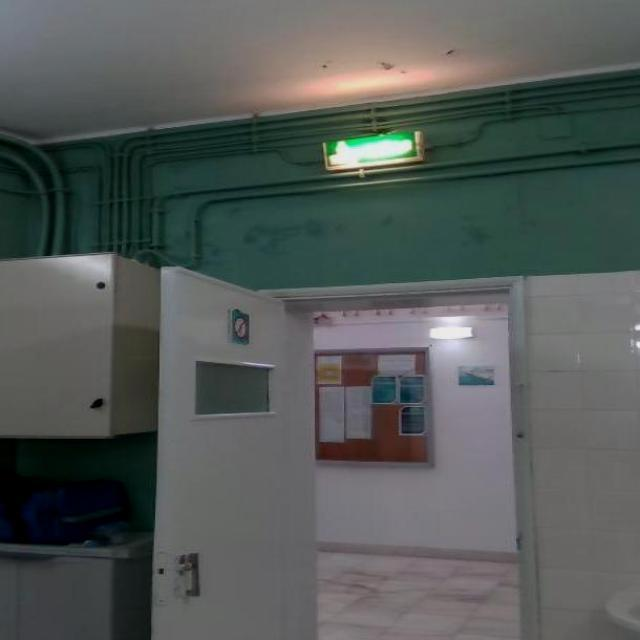door: (149, 264, 313, 638)
